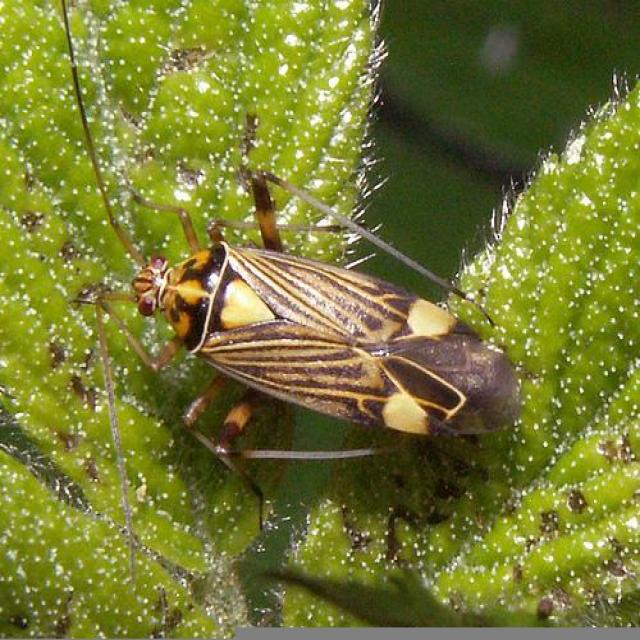Miridae-Adult-: (51, 70, 538, 475)
